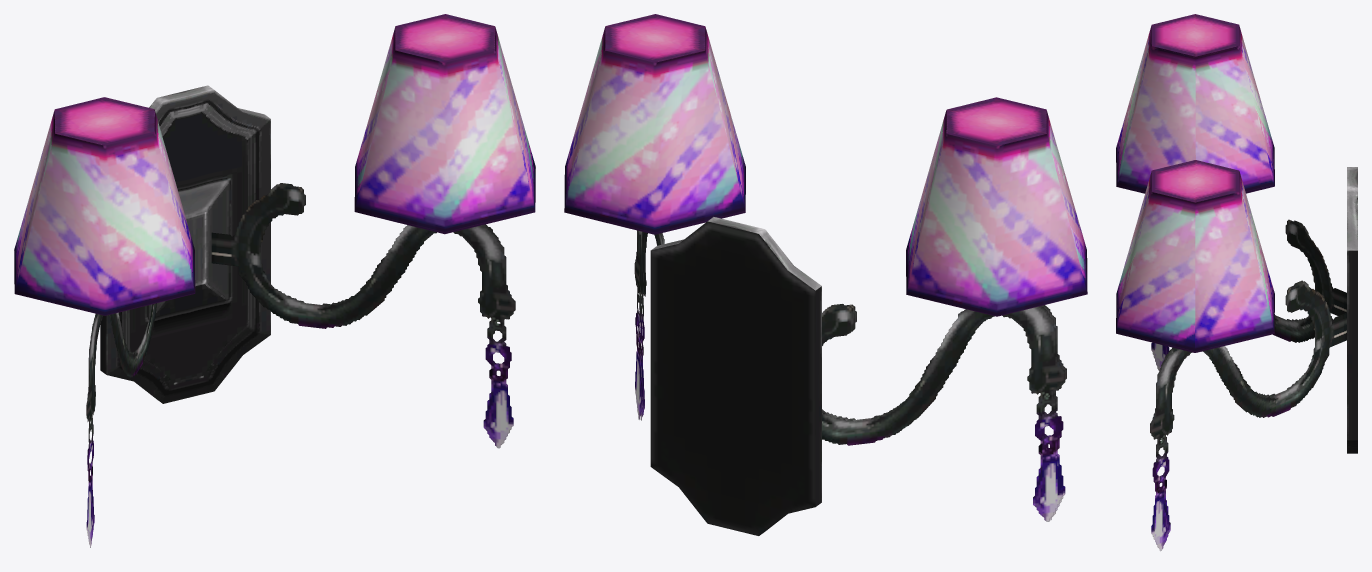
File: furni_0200601_02.FBX
The picture shows the model from 3 angles, left to right: view 1: azimuth 30°, elevation 25°; view 2: azimuth 150°, elevation 25°; view 3: azimuth 270°, elevation 25°; orthographic projection. The views are drawn at different scales.
Parts seen in each view (by area): view 1: furni_0200601_02; view 2: furni_0200601_02; view 3: furni_0200601_02.
Boxes of the visible parts, <box> form: furni_0200601_02: <box>14,14,535,547</box>; furni_0200601_02: <box>564,14,1087,535</box>; furni_0200601_02: <box>1116,14,1357,551</box>.
Bounding box in the file's own units: 72.8 × 54.18 × 33.34.
Materials: 1 (1 with a texture image).
